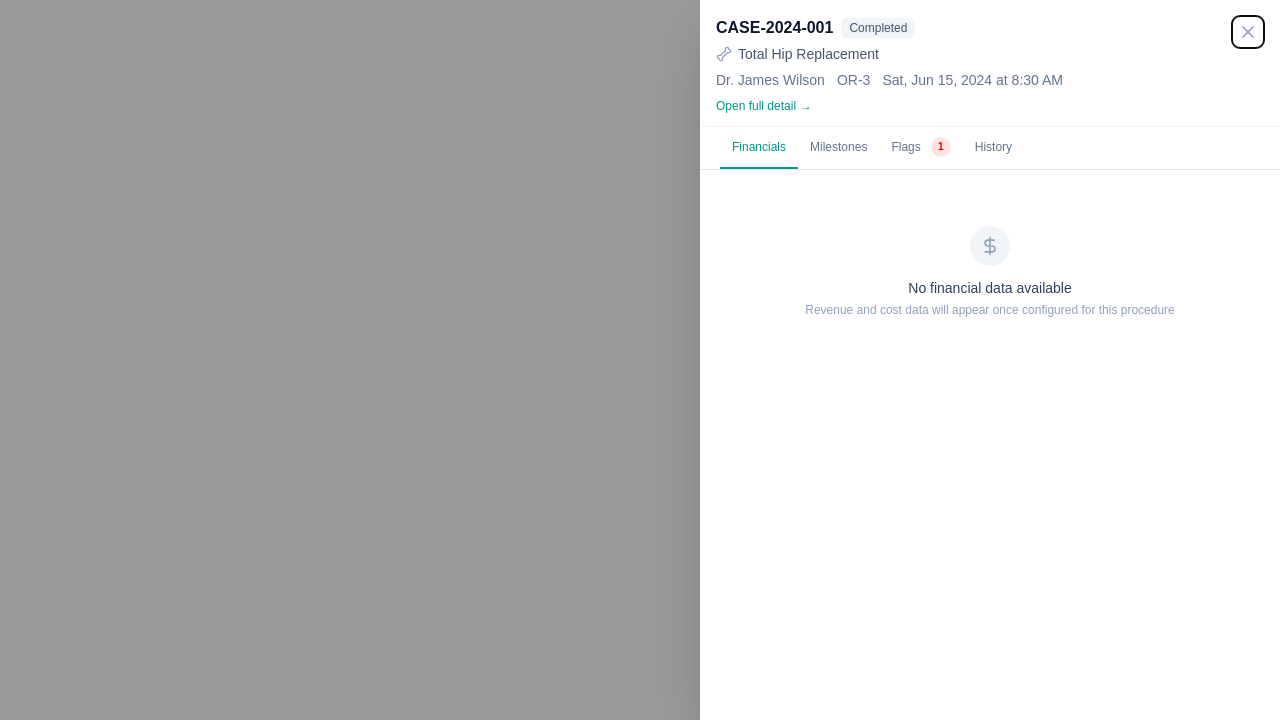
Test: CaseDrawer — cross-tab consistency › milestones tab renders after switching from financials
Note: Go to Financials first
Click the button "Financials" at (759,148), box [720,127,798,169]
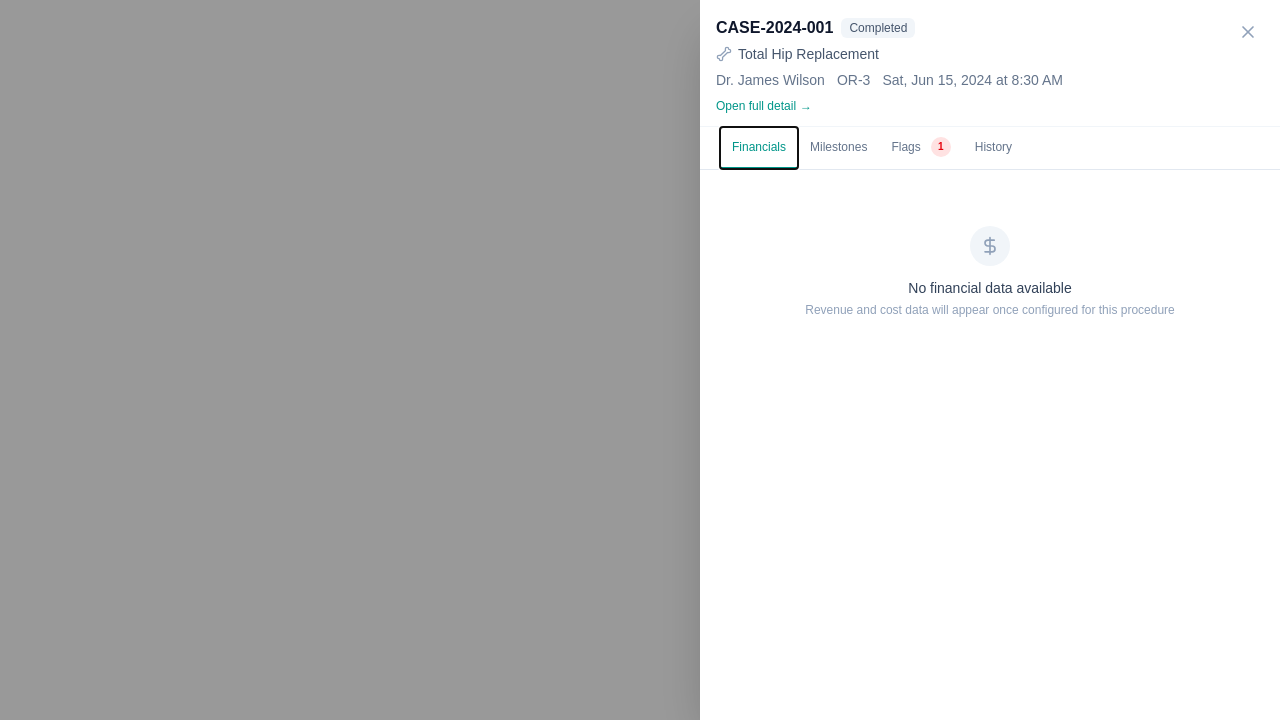
Expected: the text "No financial data available" is shown, [908,278,1072,298]
Note: Switch to Milestones
Click the button "Milestones" at (839,148), box [798,127,879,169]
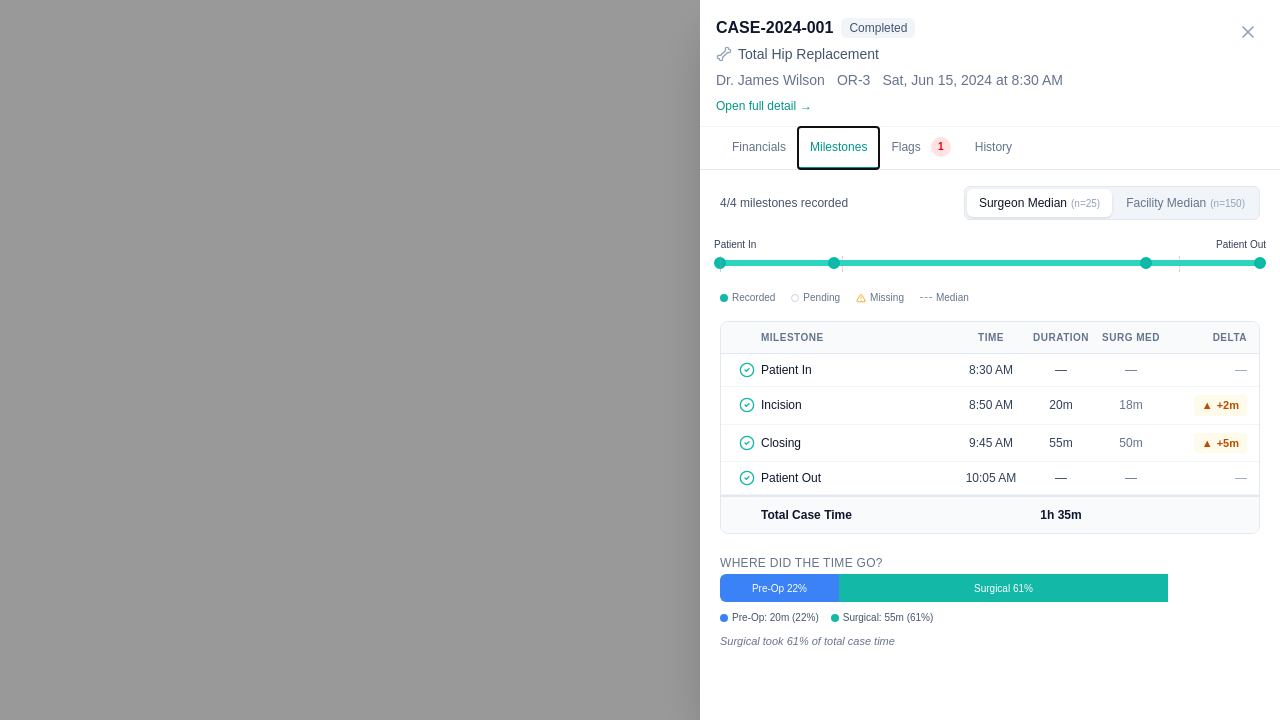
Expected: the text "4/4 milestones recorded" is shown, [720,195,848,211]
